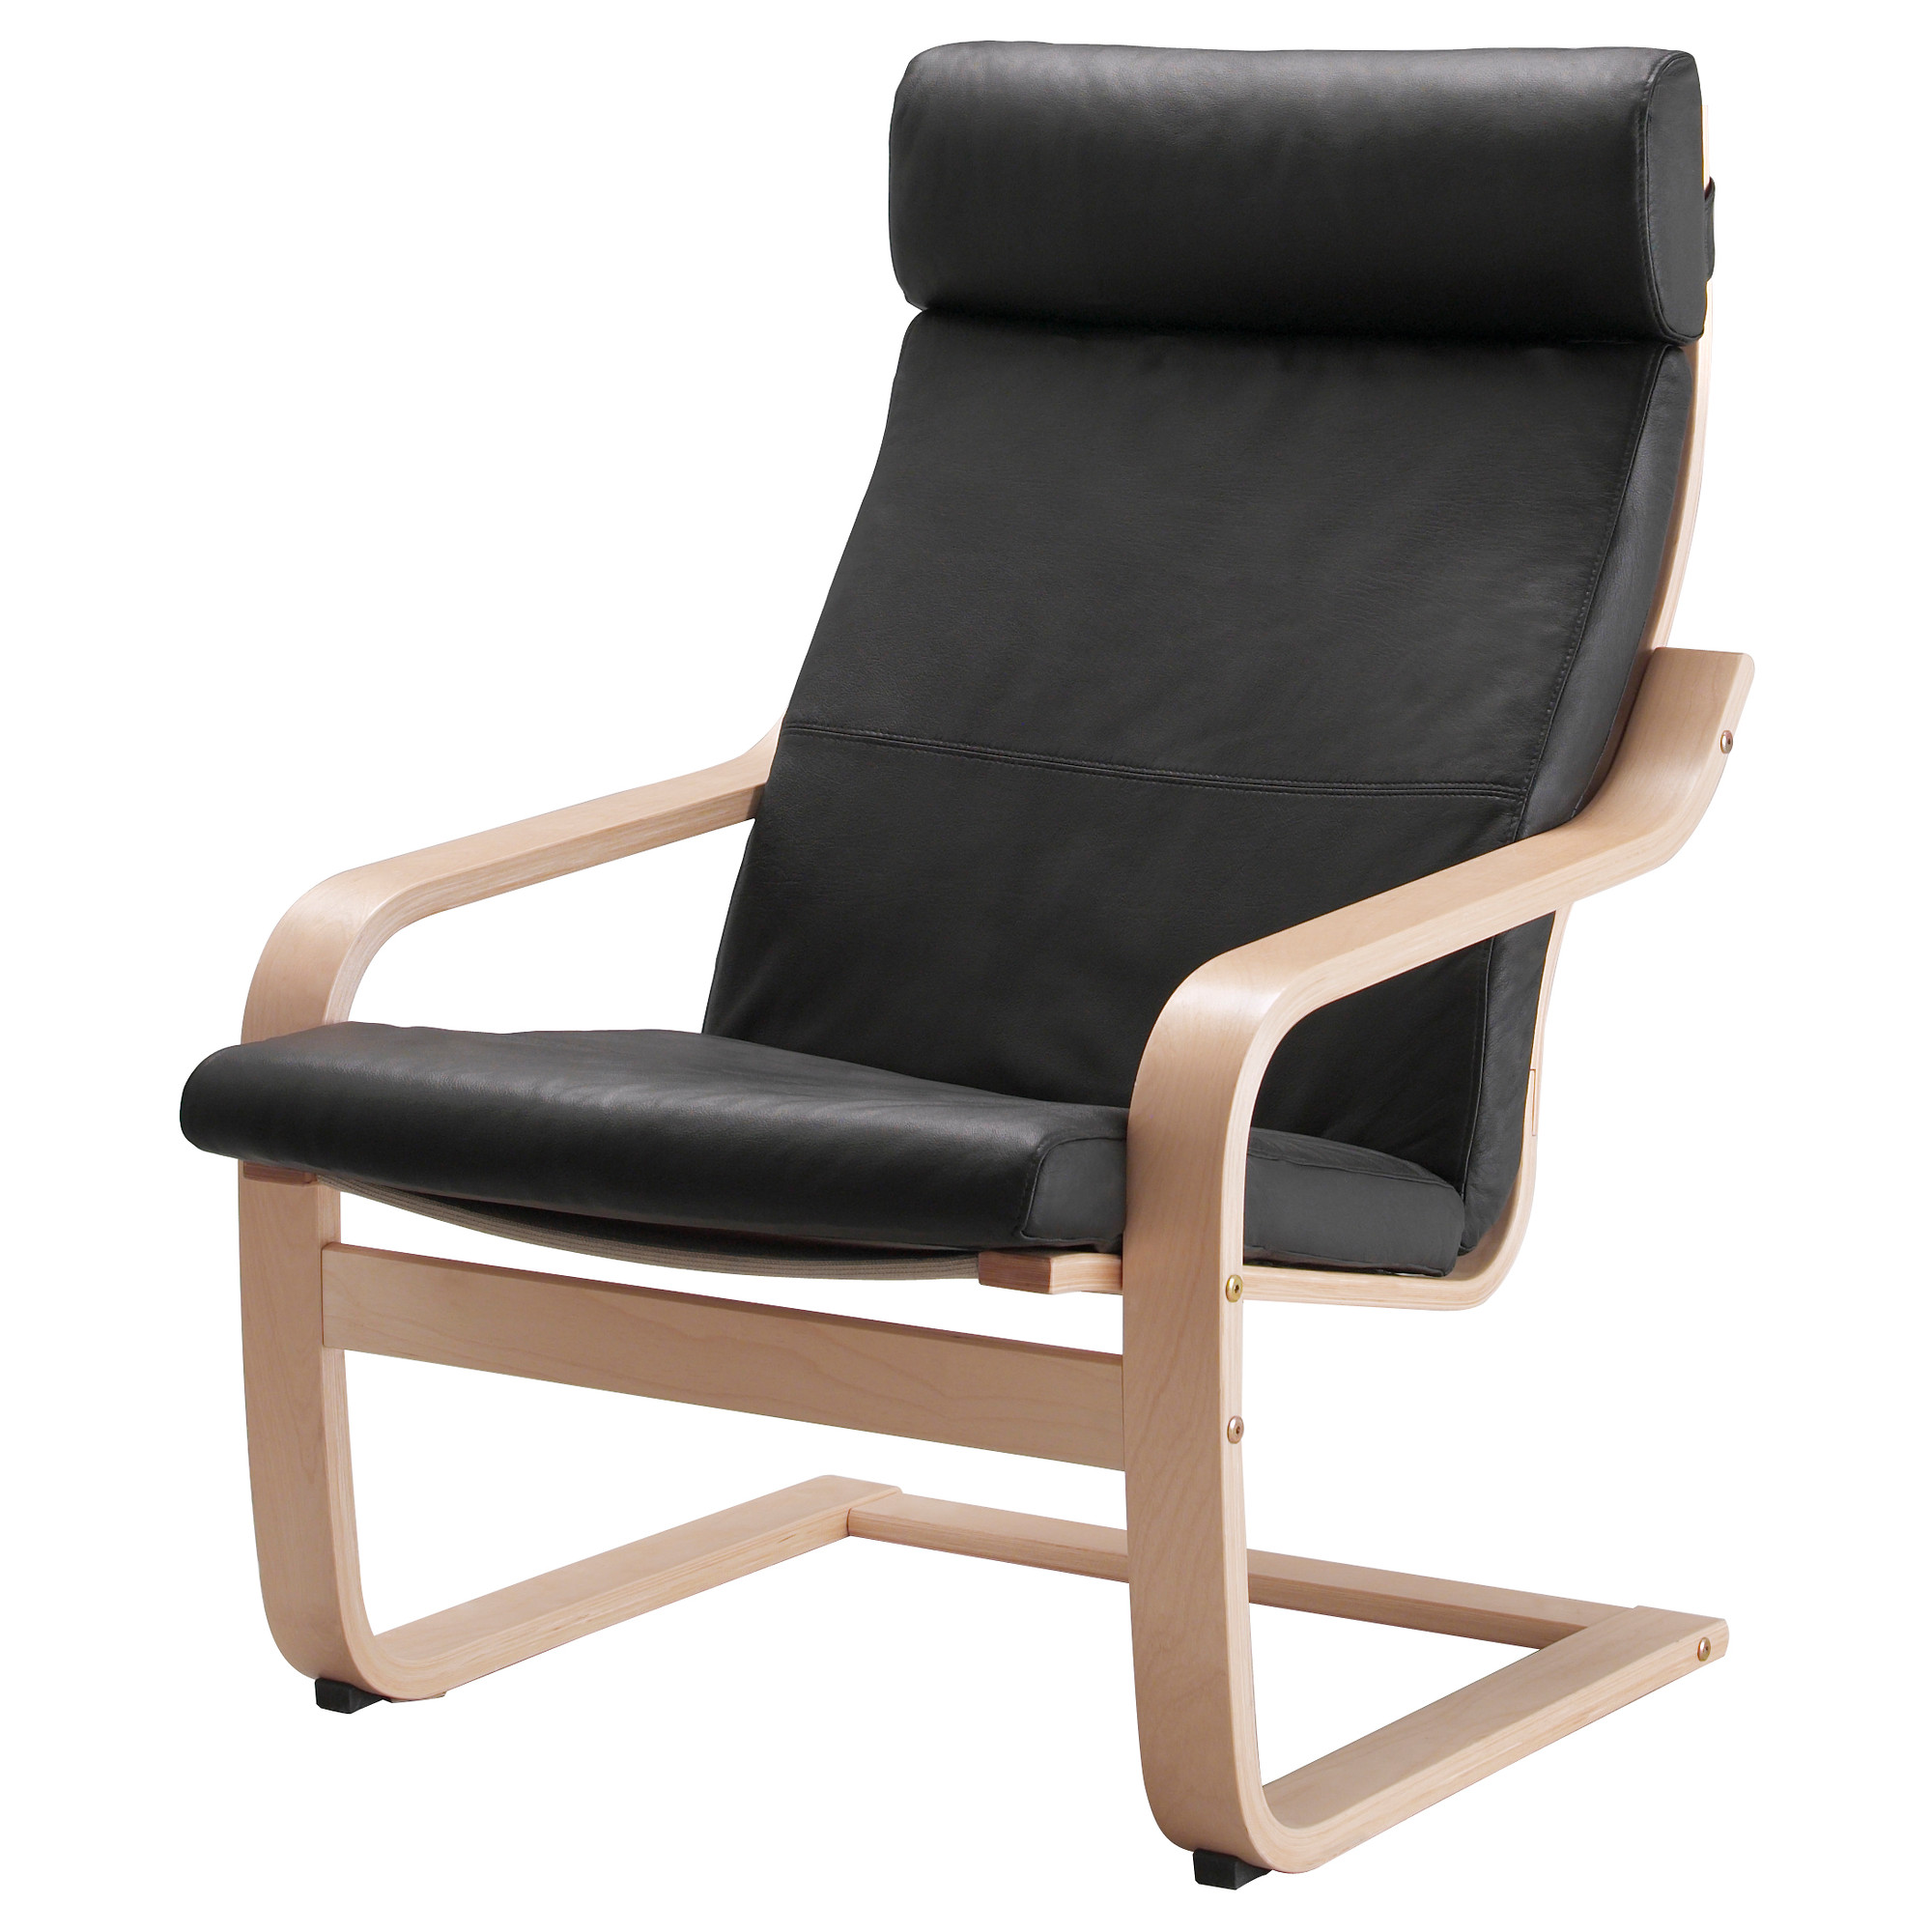chairs: (180, 23, 1773, 1888)
